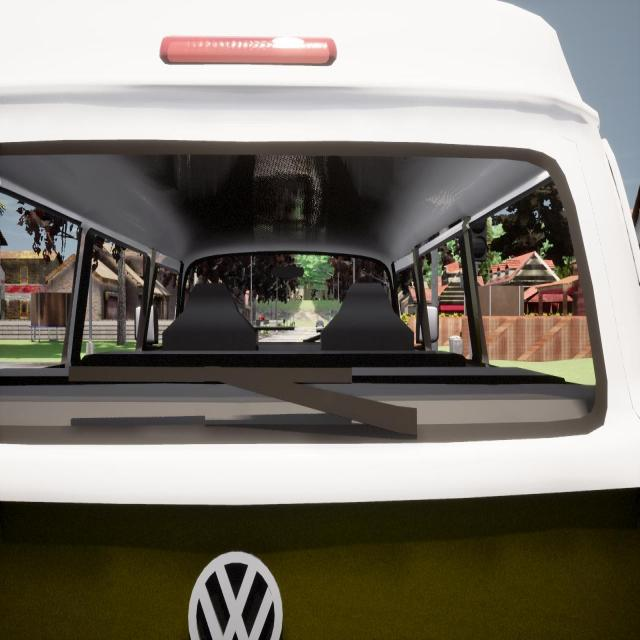Vehicle: (0, 0, 640, 640), (316, 319, 324, 327)
traffic_light: (470, 220, 486, 261)
